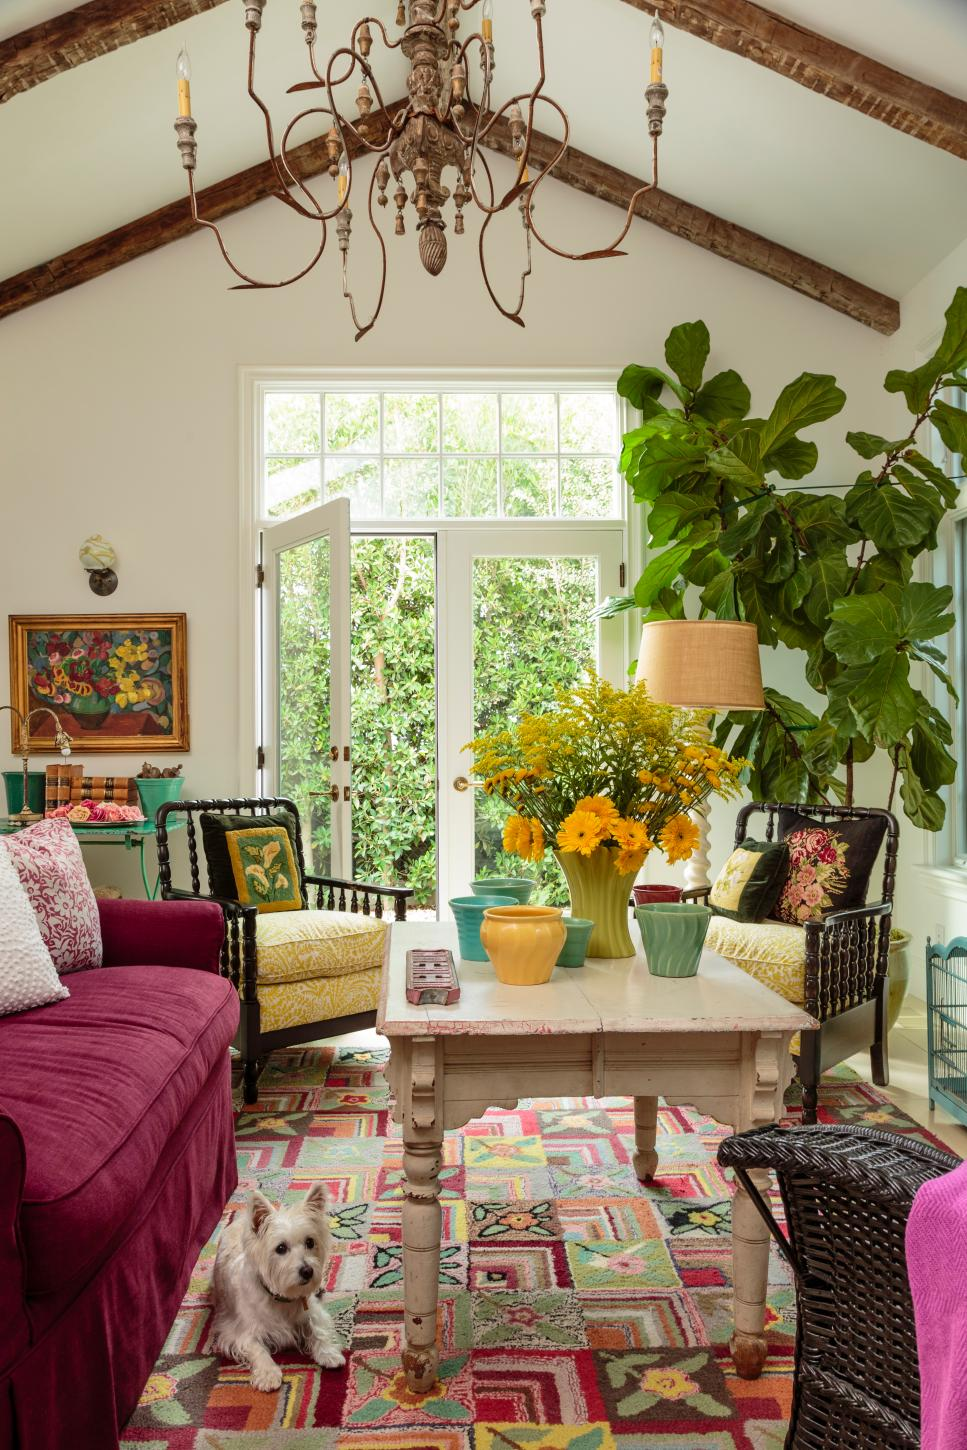hijau: (634, 387, 798, 570), (561, 848, 636, 950)
kuning: (483, 901, 566, 984)
ungu: (1, 906, 212, 1445), (905, 1172, 962, 1450)
